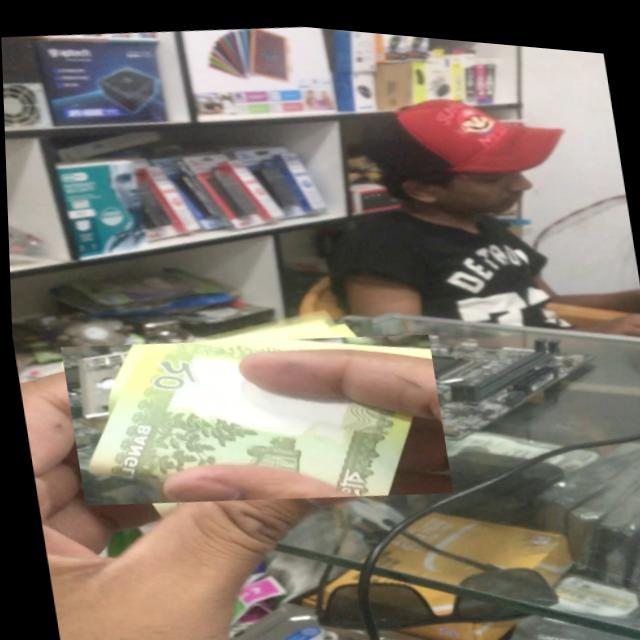Taka: (57, 300, 451, 530)
